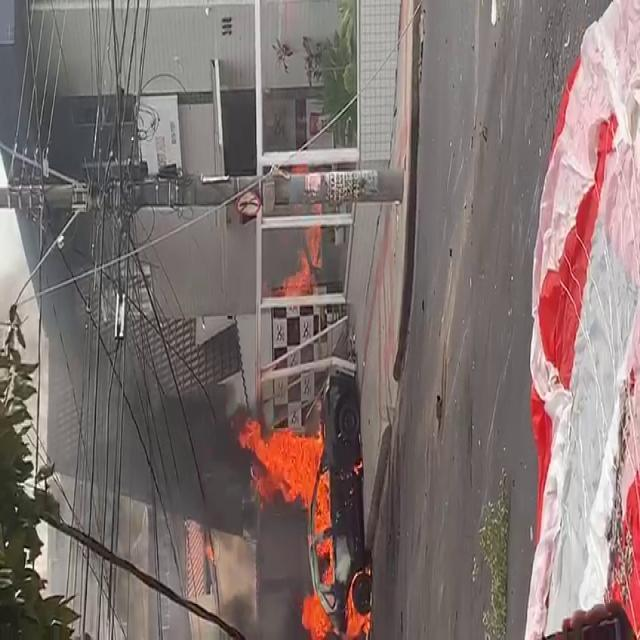Fire: (229, 176, 376, 640)
Smoke: (0, 4, 224, 516)
